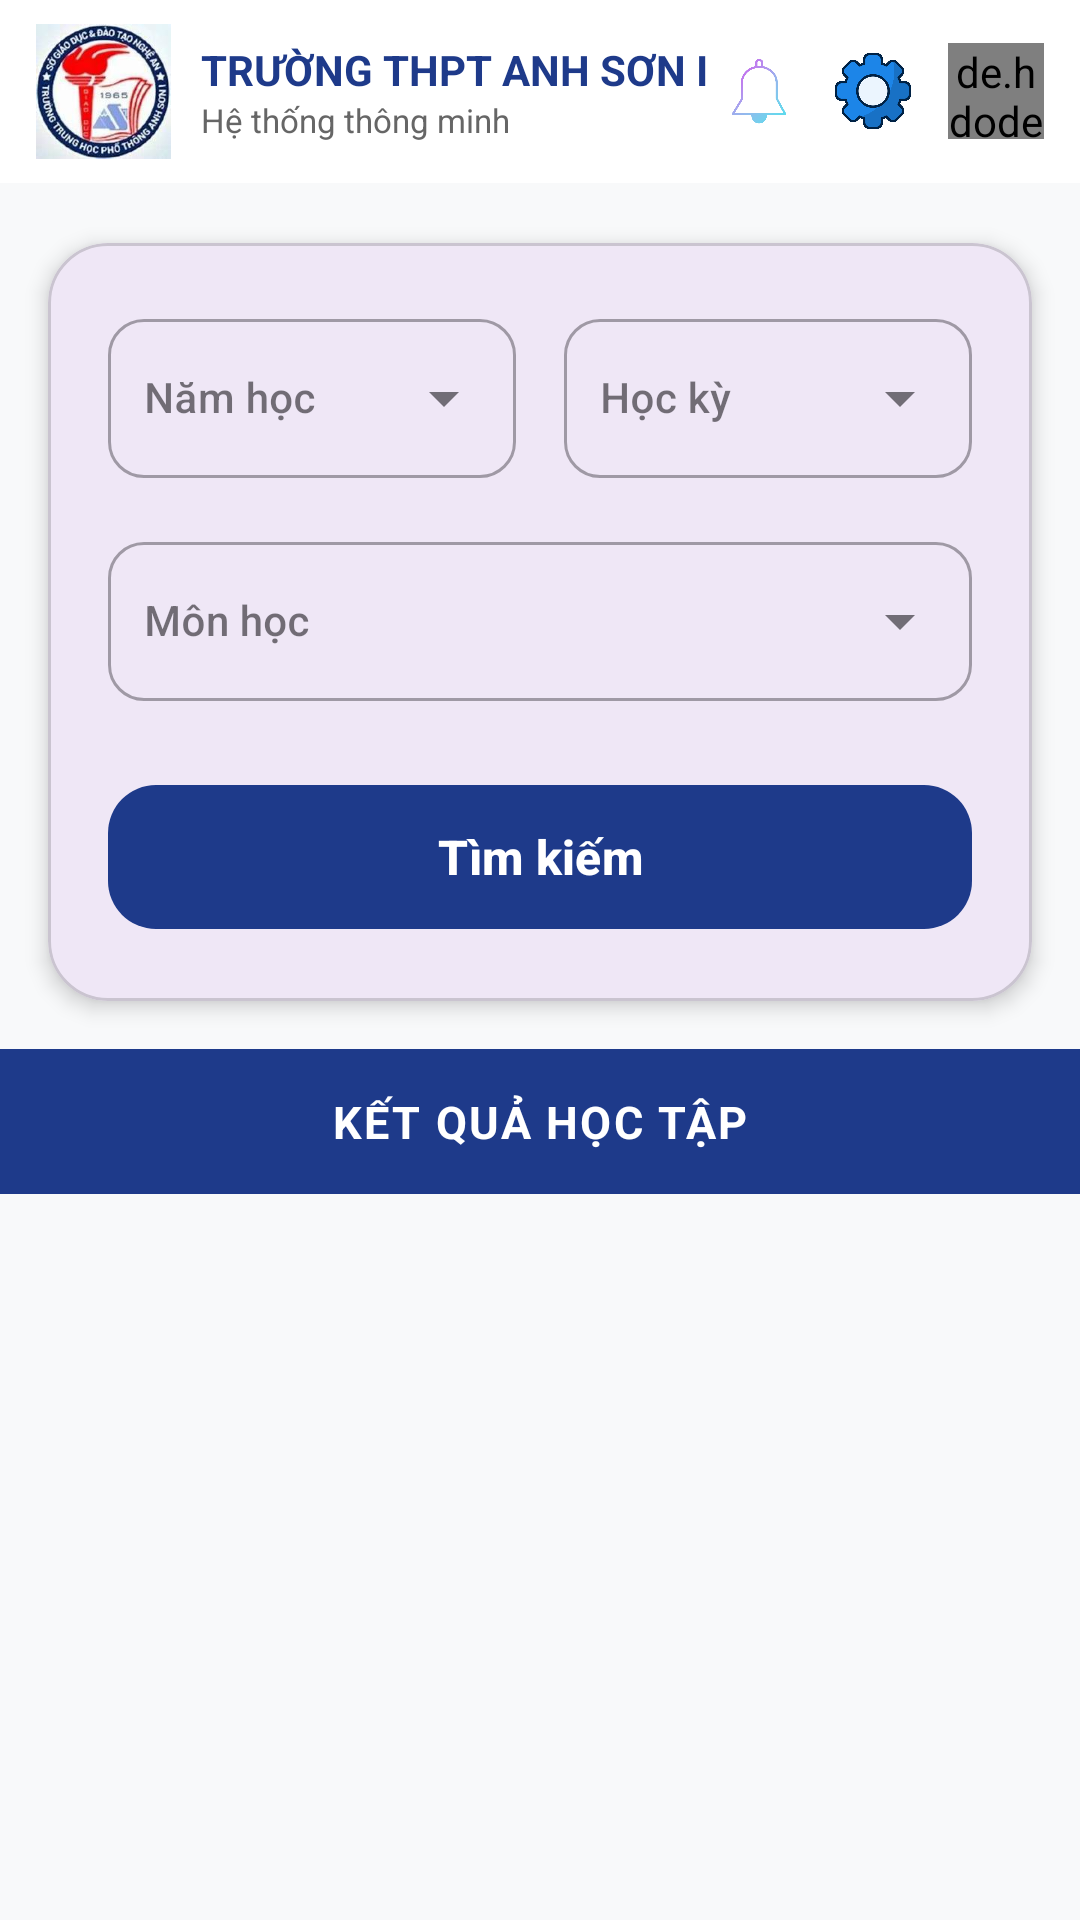

Named icons in this screenshot (1080w x 1920h) and their centers, (x=x, y=y):
Notification: (x=759, y=91)
Settings: (x=873, y=91)
